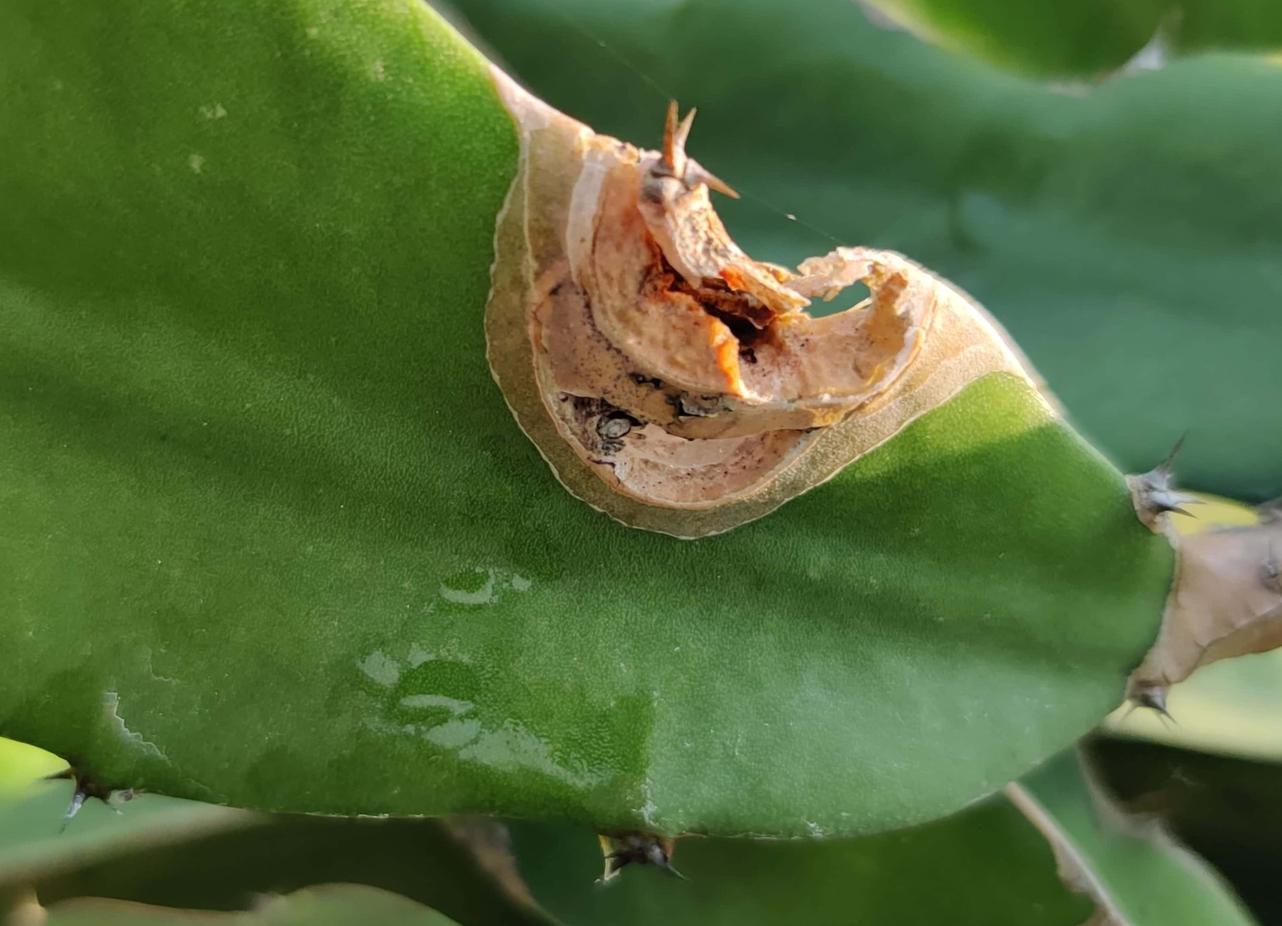stemcanker: (485, 61, 1036, 541)
